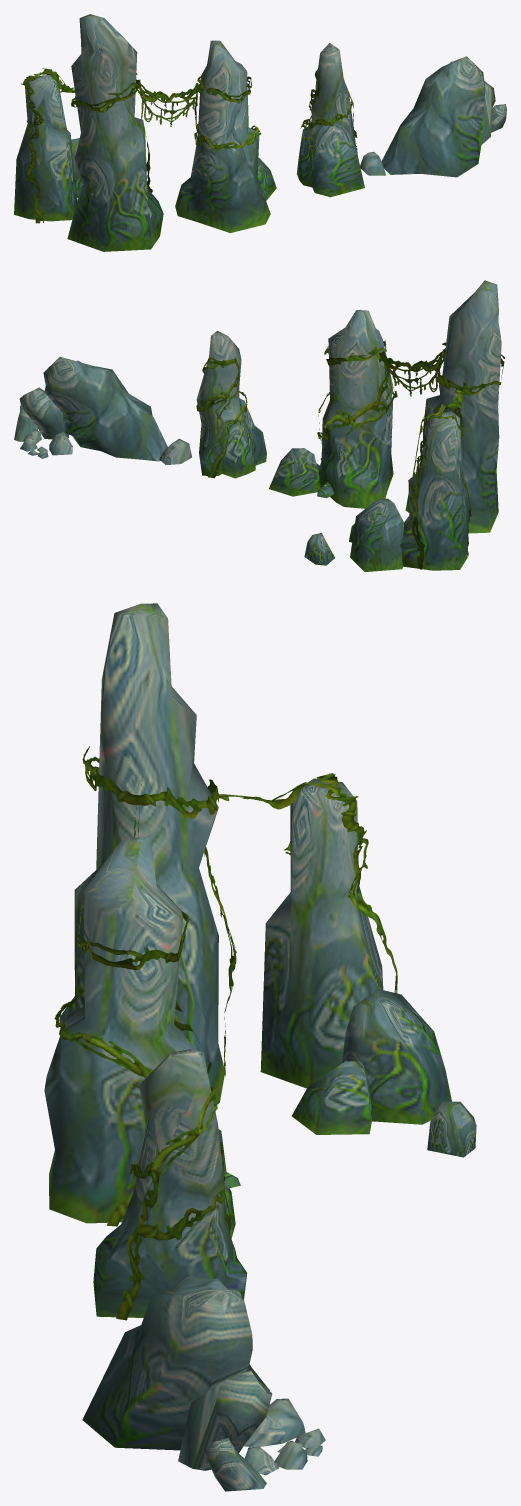
The model's file is shan_shi_004.FBX.
3 renders of one model, top to bottom at view 1: azimuth 30°, elevation 25°; view 2: azimuth 150°, elevation 25°; view 3: azimuth 270°, elevation 25°, orthographic. The views are drawn at different scales.
Parts seen in each view (by area): view 1: shan_shi_004_d, shan_shi_004_b, shan_shi_004_a, shan_shi_004_e, shan_shi_004_c, shan_shi_004_g, shan_shi_004_f; view 2: shan_shi_004_b, shan_shi_004_e, shan_shi_004_a, shan_shi_004_d, shan_shi_004_c, shan_shi_004_g, shan_shi_004_f; view 3: shan_shi_004_e, shan_shi_004_b, shan_shi_004_d, shan_shi_004_a, shan_shi_004_c, shan_shi_004_g, shan_shi_004_f.
Boxes of the visible parts, x1=… form: shan_shi_004_d: x1=67, y1=14, x2=163, y2=251; shan_shi_004_b: x1=175, y1=40, x2=276, y2=232; shan_shi_004_a: x1=360, y1=56, x2=506, y2=177; shan_shi_004_e: x1=14, y1=75, x2=81, y2=221; shan_shi_004_c: x1=296, y1=43, x2=364, y2=197; shan_shi_004_g: x1=21, y1=68, x2=261, y2=223; shan_shi_004_f: x1=300, y1=69, x2=357, y2=152; shan_shi_004_b: x1=269, y1=310, x2=393, y2=508; shan_shi_004_e: x1=304, y1=411, x2=468, y2=571; shan_shi_004_a: x1=14, y1=356, x2=191, y2=464; shan_shi_004_d: x1=405, y1=280, x2=501, y2=533; shan_shi_004_c: x1=196, y1=331, x2=266, y2=478; shan_shi_004_g: x1=317, y1=340, x2=504, y2=569; shan_shi_004_f: x1=196, y1=357, x2=247, y2=478; shan_shi_004_e: x1=260, y1=778, x2=476, y2=1157; shan_shi_004_b: x1=44, y1=836, x2=240, y2=1238; shan_shi_004_d: x1=60, y1=603, x2=224, y2=1104; shan_shi_004_a: x1=82, y1=1275, x2=325, y2=1491; shan_shi_004_c: x1=93, y1=1049, x2=247, y2=1317; shan_shi_004_g: x1=54, y1=746, x2=397, y2=1226; shan_shi_004_f: x1=116, y1=1086, x2=235, y2=1320.
Size of the model in its own units: 2141 by 1048 by 869.
2 materials, 2 textured.
